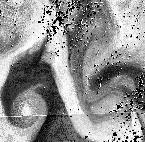CE: (9, 90, 49, 129)
